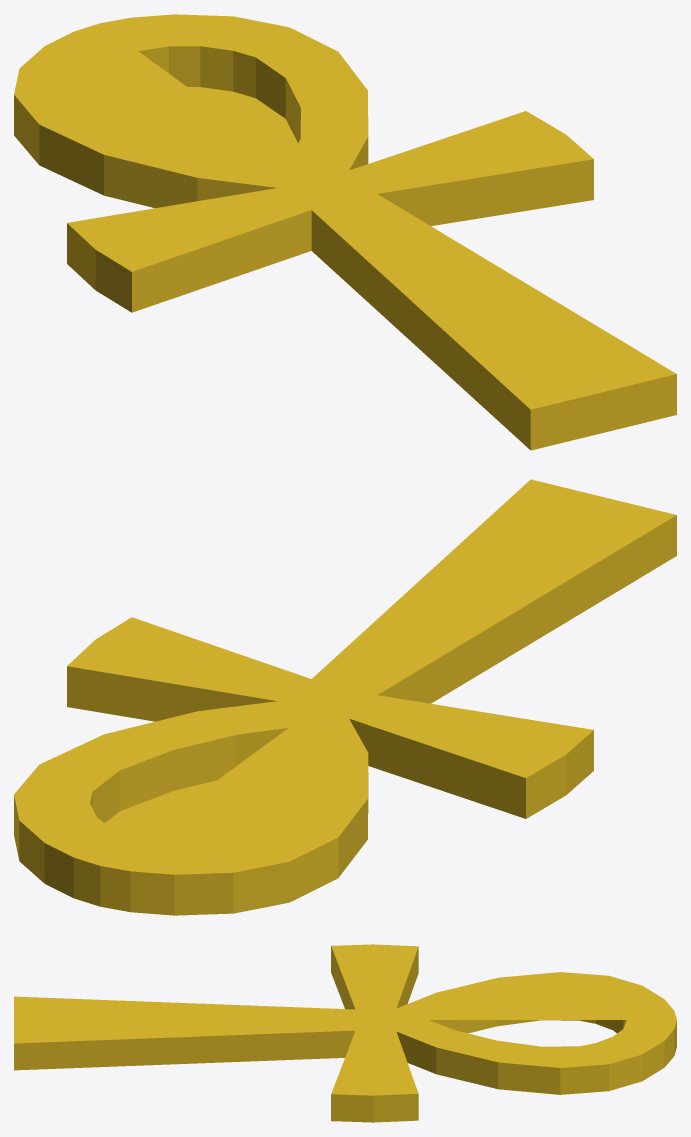
File: Crux.fbx
The picture shows the model from 3 angles, top to bottom: view 1: azimuth 30°, elevation 25°; view 2: azimuth 150°, elevation 25°; view 3: azimuth 270°, elevation 25°; orthographic projection. The views are drawn at different scales.
Visible parts, largest first — view 1: Cube; view 2: Cube; view 3: Cube.
Part boxes in pixels (x1,y1,x2,y2): Cube: (14, 14, 676, 450); Cube: (14, 479, 676, 915); Cube: (14, 944, 676, 1122).
Bounding box in the file's own units: 254 × 21.1 × 472.
